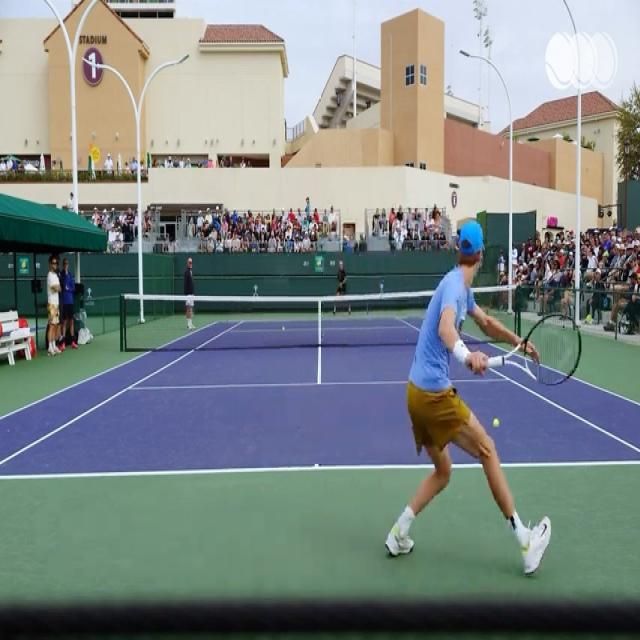forehand-ready: (395, 215, 583, 574)
